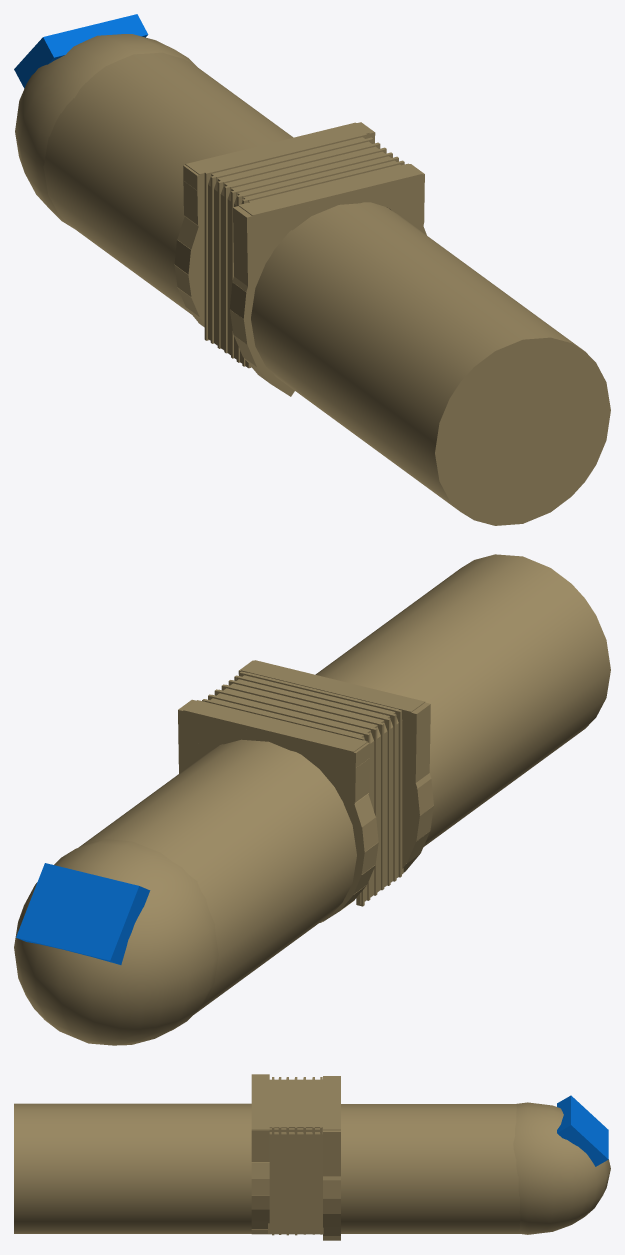
The picture shows the model from 3 angles, top to bottom: view 1: azimuth 30°, elevation 25°; view 2: azimuth 150°, elevation 25°; view 3: azimuth 270°, elevation 25°; orthographic projection. The views are drawn at different scales.
Visible parts, largest first — view 1: onlydih; view 2: onlydih; view 3: onlydih.
Boxes of the visible parts, x1=… form: onlydih: x1=14, y1=14, x2=610, y2=525; onlydih: x1=14, y1=554, x2=610, y2=1045; onlydih: x1=14, y1=1074, x2=610, y2=1240.
Bounding box in the file's own units: 2.18 × 2.16 × 9.21.
